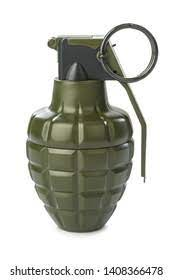bomb: (25, 23, 150, 233)
